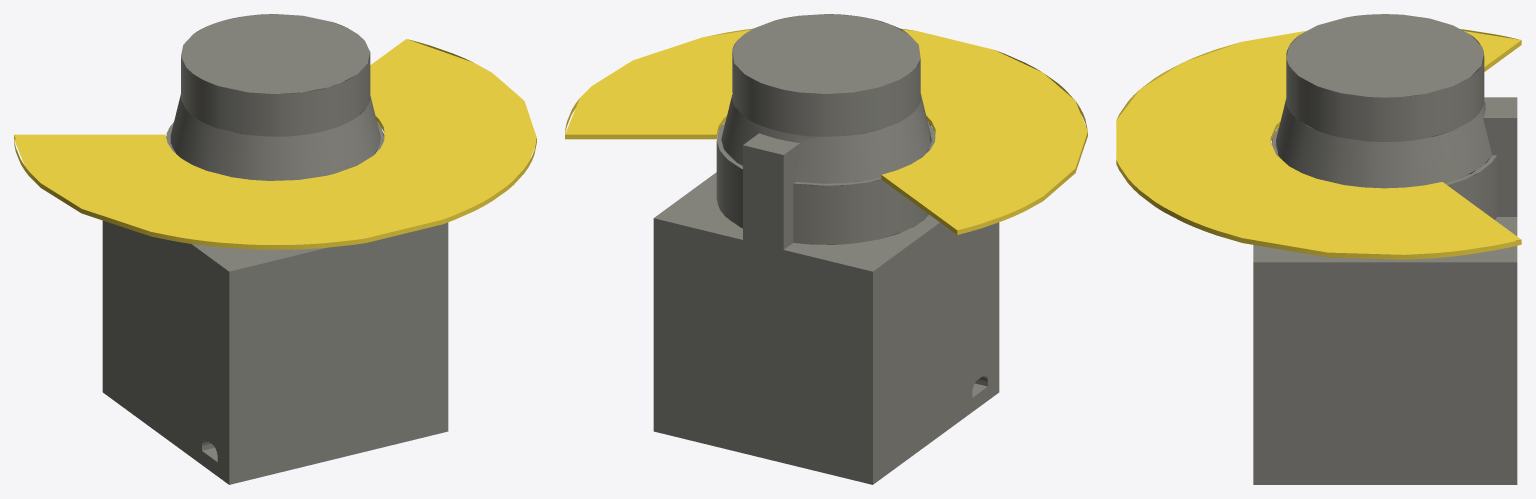
Rendered from hokuyo.dae.
3 views of the same model, side by side, from view 1: azimuth 30°, elevation 25°; view 2: azimuth 150°, elevation 25°; view 3: azimuth 270°, elevation 25° (orthographic). The views are drawn at different scales.
Parts seen in each view (by area): view 1: Object; view 2: Object; view 3: Object.
Part boxes in pixels (x1=…): Object: x1=14, y1=14, x2=536, y2=484; Object: x1=565, y1=14, x2=1087, y2=484; Object: x1=1116, y1=14, x2=1521, y2=484.
Bounding box in the file's own units: 0.0997 × 0.0743 × 0.0755.
